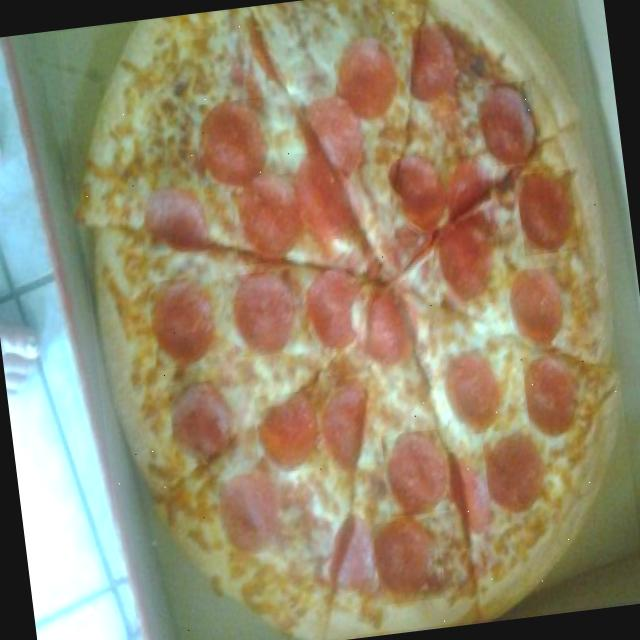pepperoni: (193, 96, 277, 193), (228, 172, 305, 264), (291, 146, 364, 242), (146, 274, 218, 370), (481, 426, 551, 523), (354, 278, 426, 371), (380, 428, 454, 516), (226, 268, 299, 356), (301, 266, 374, 354), (430, 213, 498, 307), (372, 516, 444, 604), (301, 93, 374, 179), (398, 19, 468, 108), (312, 376, 378, 470), (330, 36, 397, 125), (439, 347, 505, 435), (253, 390, 323, 472), (474, 80, 540, 166), (167, 378, 233, 464), (133, 187, 210, 260), (515, 168, 579, 254), (310, 512, 376, 594), (385, 154, 447, 238), (216, 472, 278, 556), (442, 444, 492, 548), (506, 264, 568, 346), (521, 352, 580, 432), (438, 152, 497, 221)
pizza: (78, 0, 616, 637)
